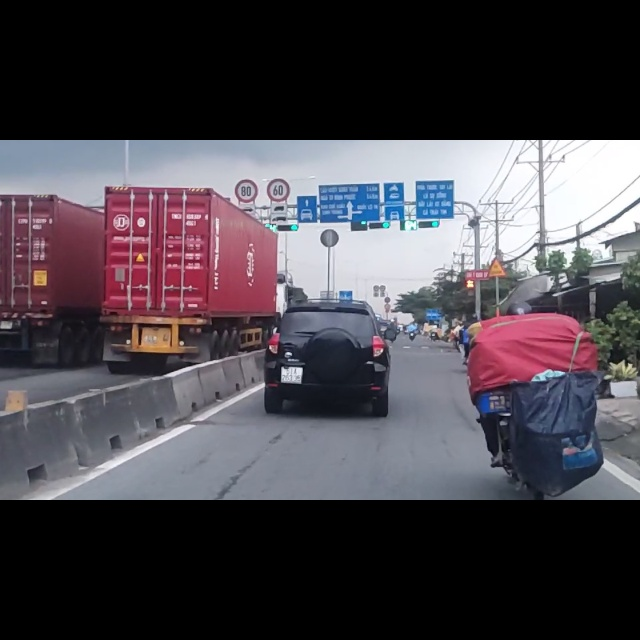bien_chi_dan: (234, 69, 259, 113), (266, 69, 291, 111), (486, 206, 507, 245)
